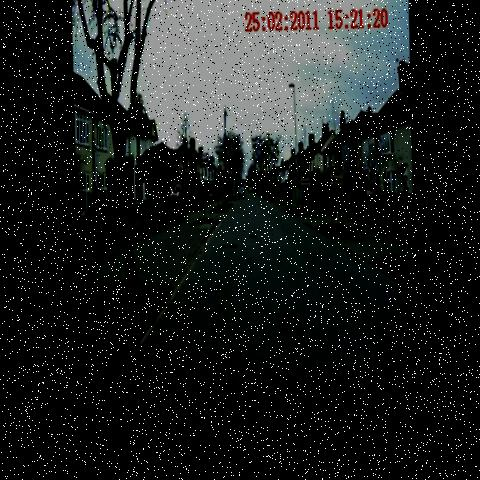pothole: (275, 304, 304, 353), (212, 233, 240, 260), (242, 224, 261, 248)
